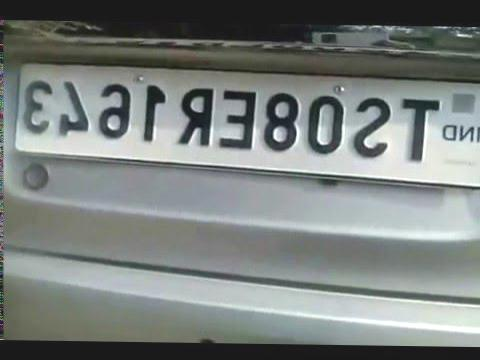License_Plate: (17, 73, 480, 160)
